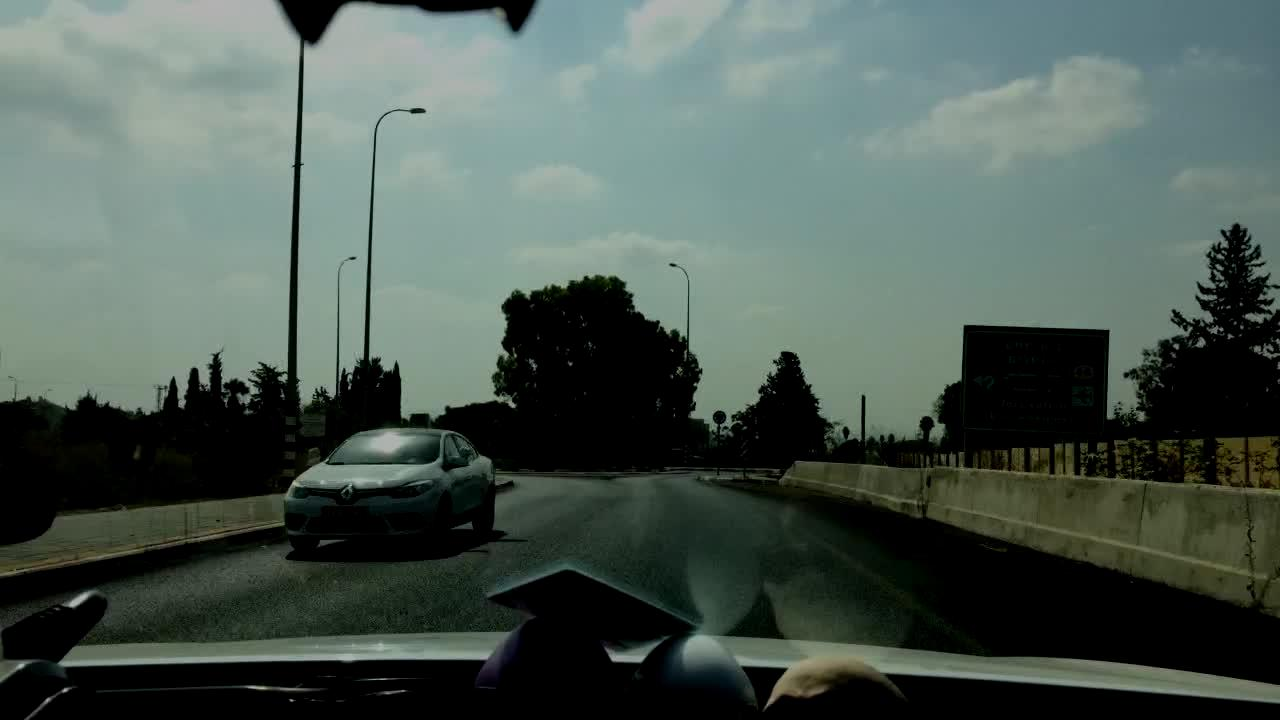Renault: (330, 474, 364, 511)
